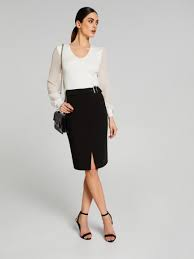F_tailored skirt: (59, 83, 113, 173)
